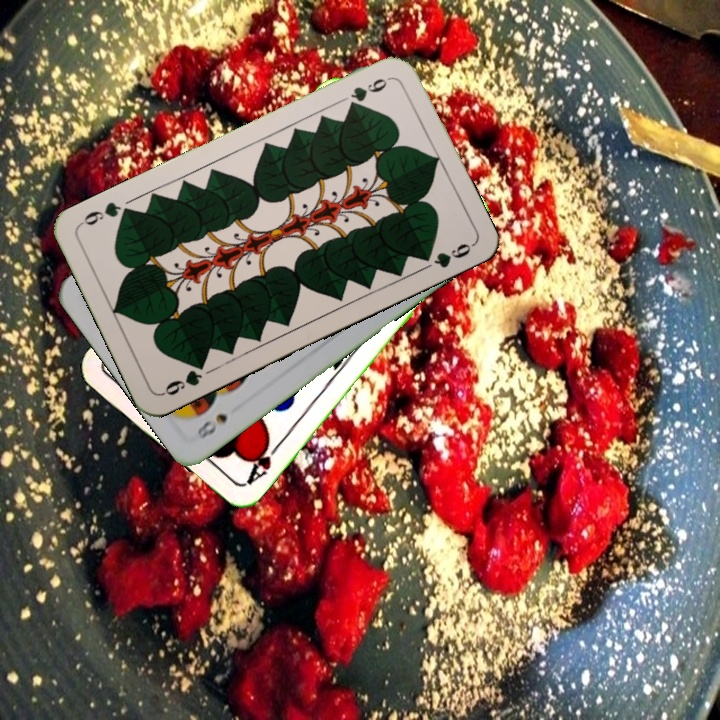G9: (158, 357, 208, 398), (344, 72, 394, 110)
HA: (241, 435, 284, 488)
S8: (193, 409, 231, 442)
